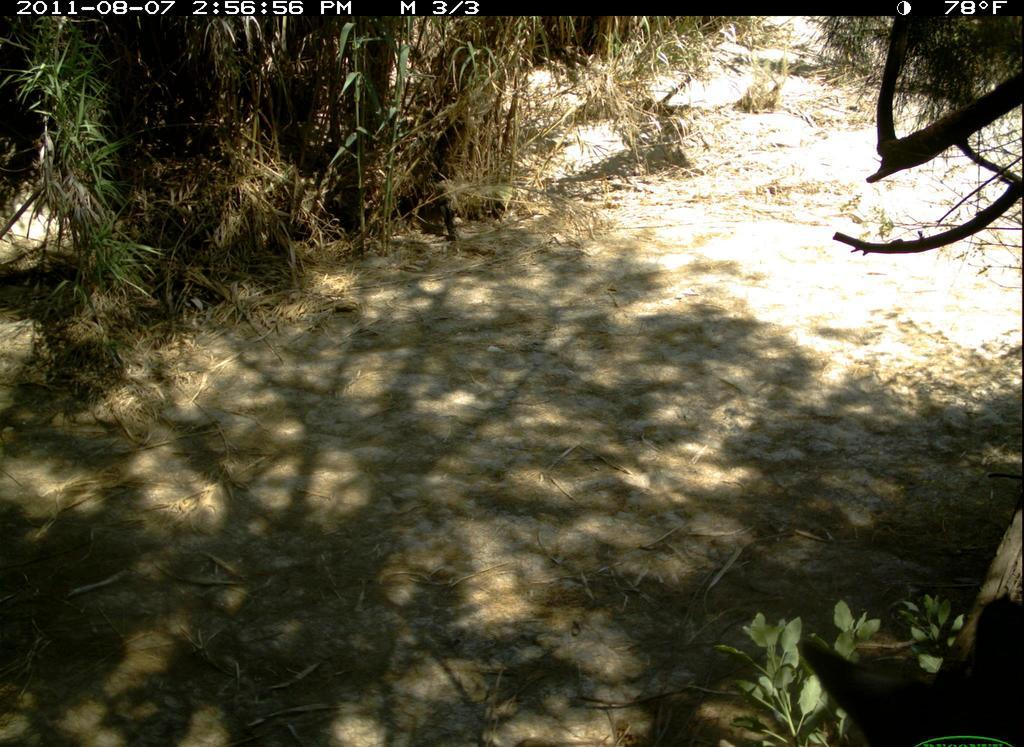bobcat: (798, 587, 1022, 745)
